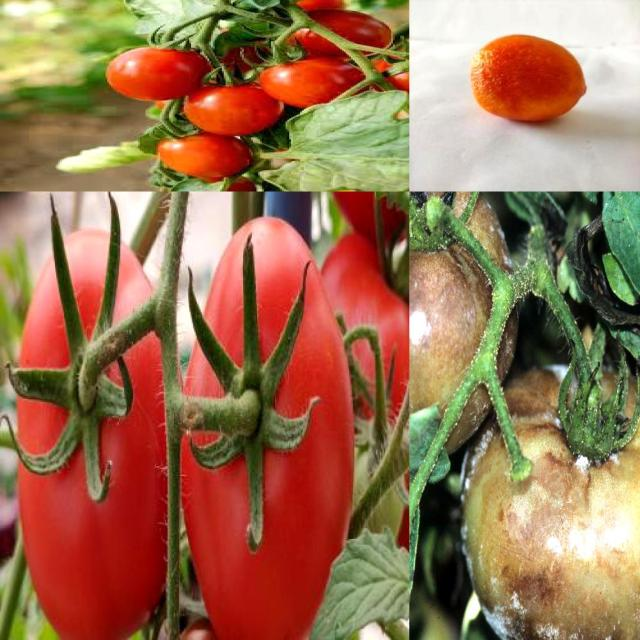Fresh_Tomato: (172, 205, 359, 640), (13, 213, 184, 640), (236, 46, 390, 109), (139, 125, 265, 183), (101, 43, 216, 101), (181, 77, 294, 133)
Rotten_Tomato: (457, 349, 640, 640), (409, 191, 518, 448), (462, 31, 590, 129)
